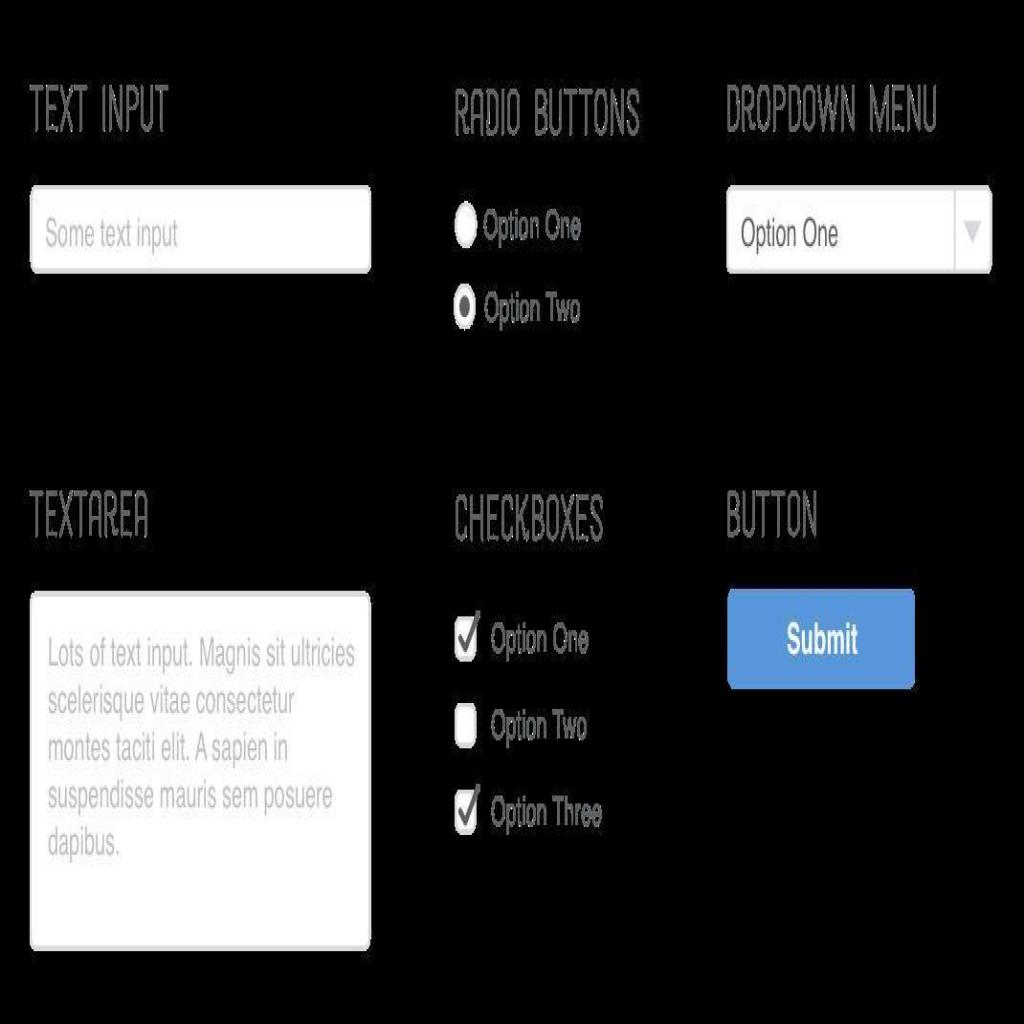button: (725, 583, 915, 687)
checkbox: (452, 608, 478, 666), (454, 699, 478, 748), (454, 790, 478, 837)
dropdown: (728, 181, 992, 276)
input: (31, 183, 371, 272)
label: (717, 67, 948, 150), (450, 71, 643, 153), (447, 481, 610, 565), (24, 67, 172, 152), (27, 477, 156, 561), (718, 467, 827, 557), (491, 600, 596, 676), (490, 780, 611, 843), (490, 699, 593, 758), (482, 201, 587, 258), (487, 283, 584, 331)
radio: (452, 197, 480, 260), (452, 280, 478, 330)
